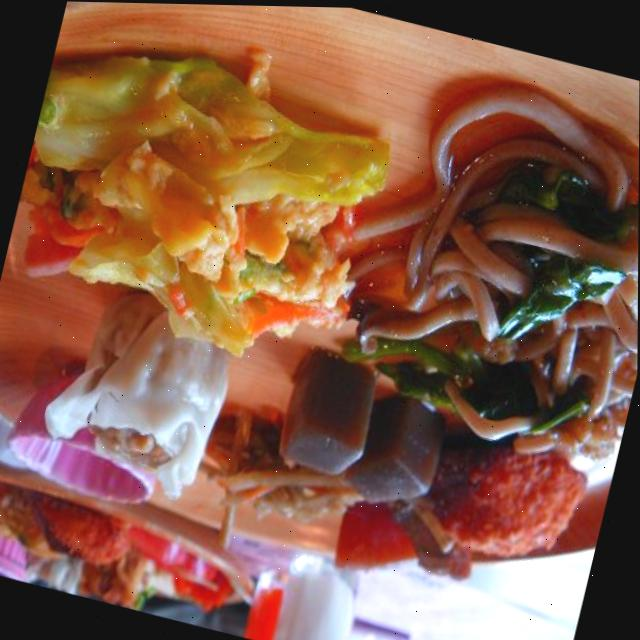蔬菜料理: (134, 192, 452, 465)
